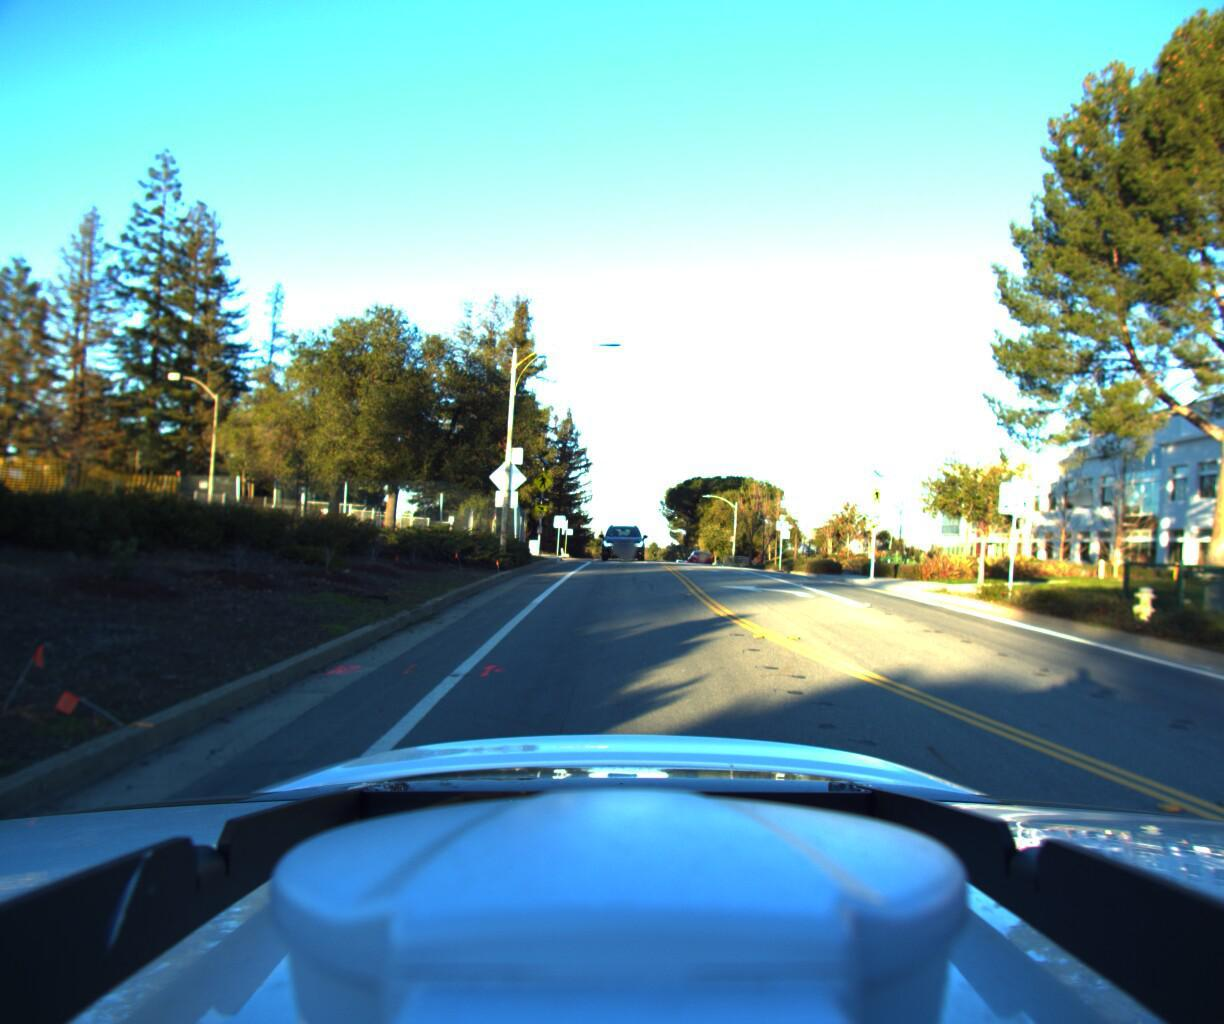car: (595, 517, 646, 561), (683, 544, 709, 564)
